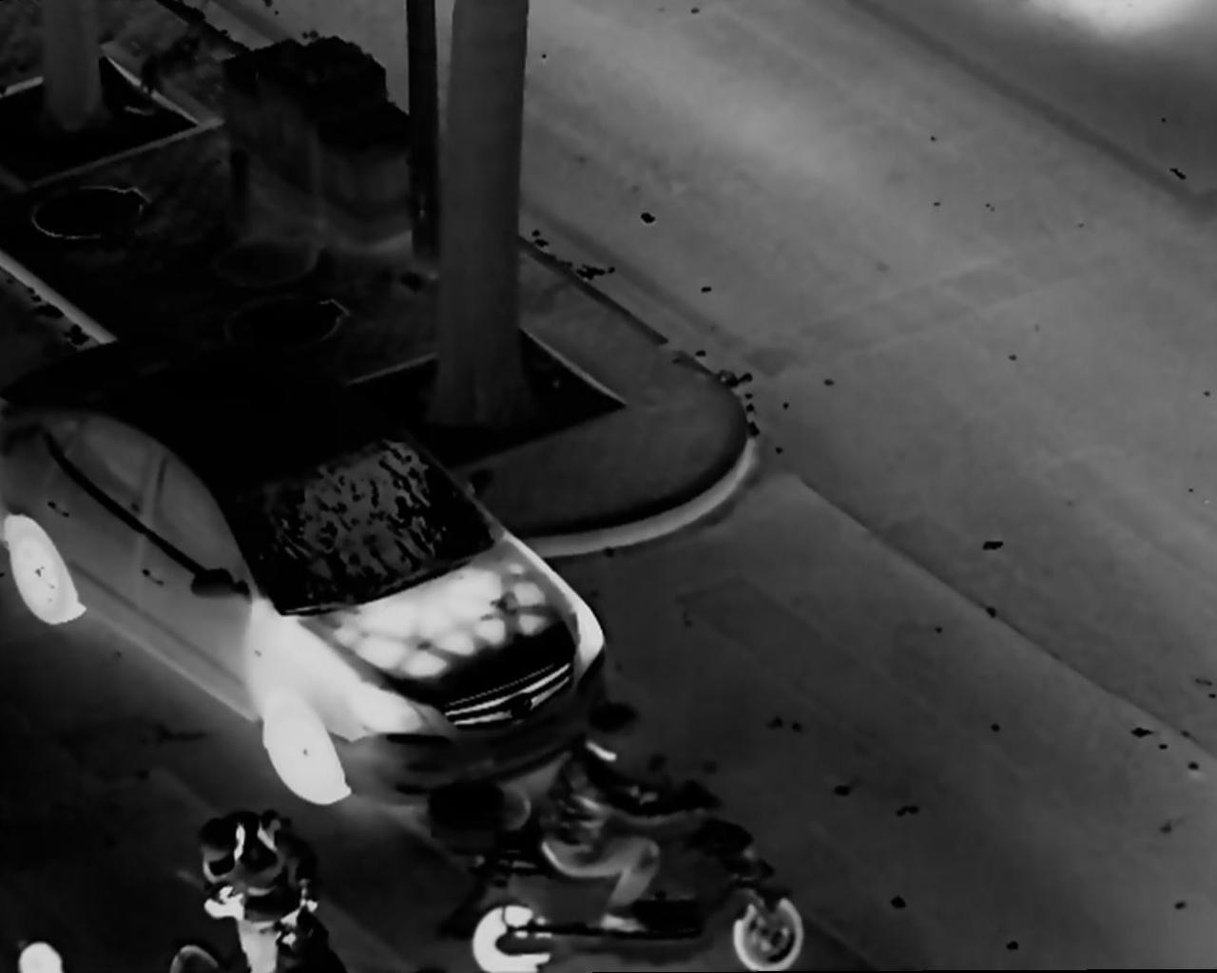person: (550, 710, 706, 954), (177, 804, 325, 973)
